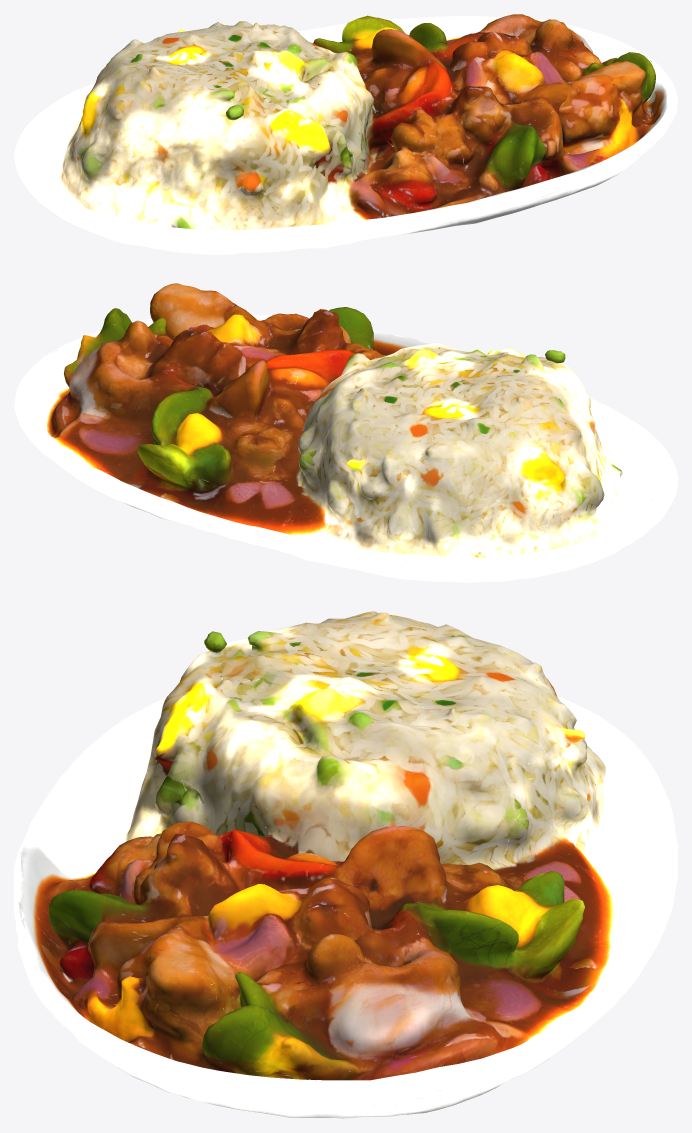
The model's file is chinese.glb.
3 renders of one model, top to bottom at view 1: azimuth 30°, elevation 25°; view 2: azimuth 150°, elevation 25°; view 3: azimuth 270°, elevation 25°, orthographic. The views are drawn at different scales.
Size of the model in its own units: 1.91 by 0.4266 by 1.26.
1 material, 1 textured.
